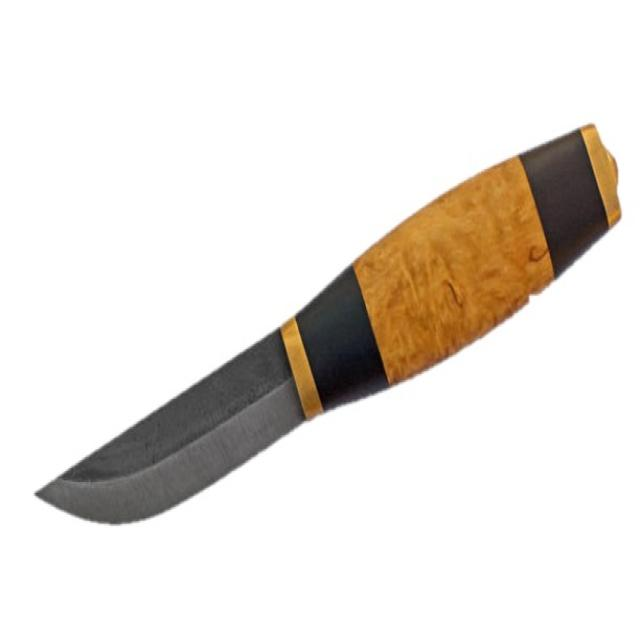knife: (29, 121, 627, 541)
